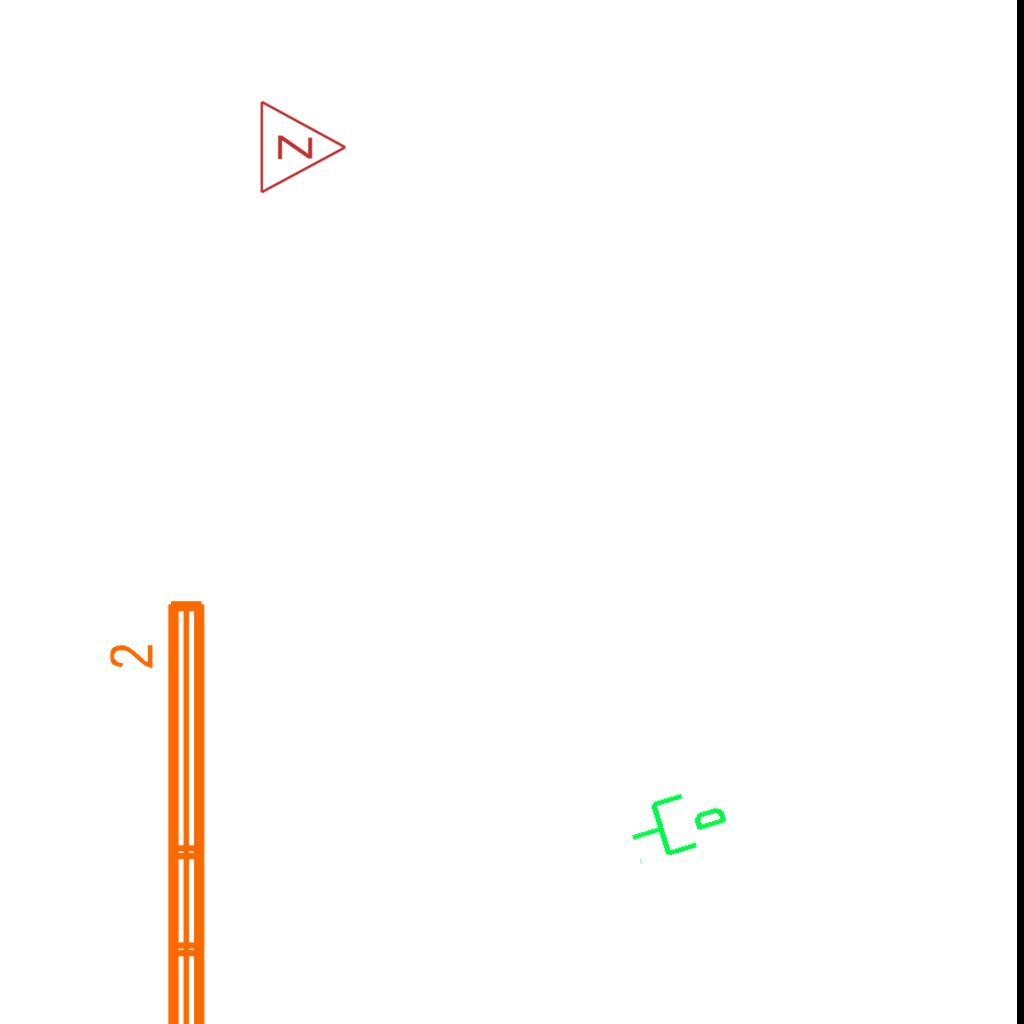Ambulanz_Pendelleuchte_LED: (105, 592, 217, 1024)
Datenanschluss_einfach: (619, 774, 736, 870)
Zimmersignalleuchte: (253, 97, 353, 195)
